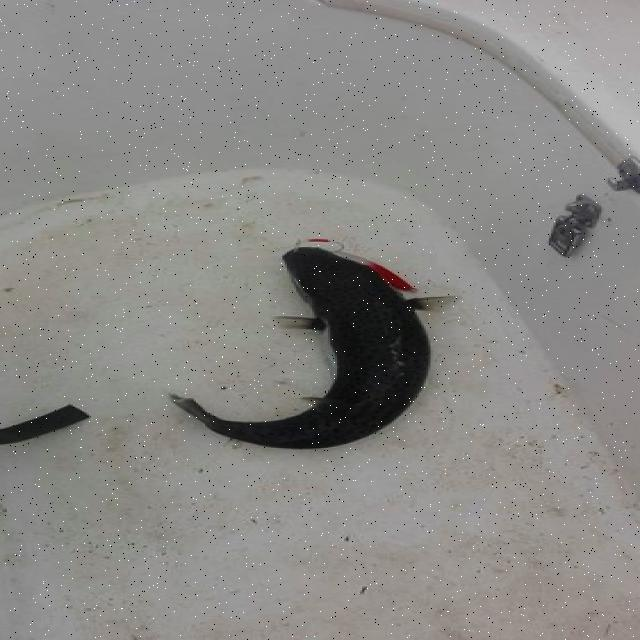Balik: (171, 248, 430, 449)
